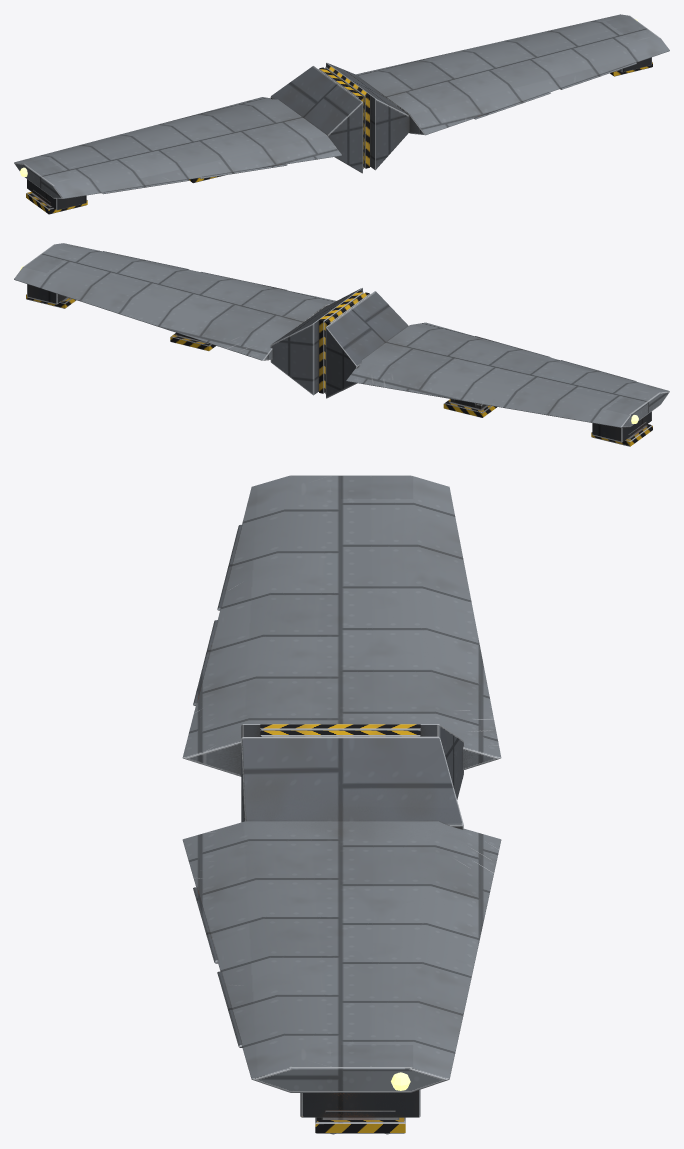
Rendered from ala_media_t1.fbx.
3 renders of one model, top to bottom at view 1: azimuth 30°, elevation 25°; view 2: azimuth 150°, elevation 25°; view 3: azimuth 270°, elevation 25°, orthographic. The views are drawn at different scales.
Visible parts, largest first — view 1: ala_media_t1_izq, ala_media_t1_der; view 2: ala_media_t1_izq, ala_media_t1_der; view 3: ala_media_t1_der, ala_media_t1_izq.
Part boxes in pixels (x1,y1,x2,y2): ala_media_t1_izq: (14, 66, 363, 214); ala_media_t1_der: (325, 14, 669, 170); ala_media_t1_izq: (325, 291, 669, 446); ala_media_t1_der: (14, 243, 363, 395); ala_media_t1_der: (182, 730, 501, 1134); ala_media_t1_izq: (182, 475, 501, 799).
Bounding box in the file's own units: 14.24 × 1.6 × 3.18.
